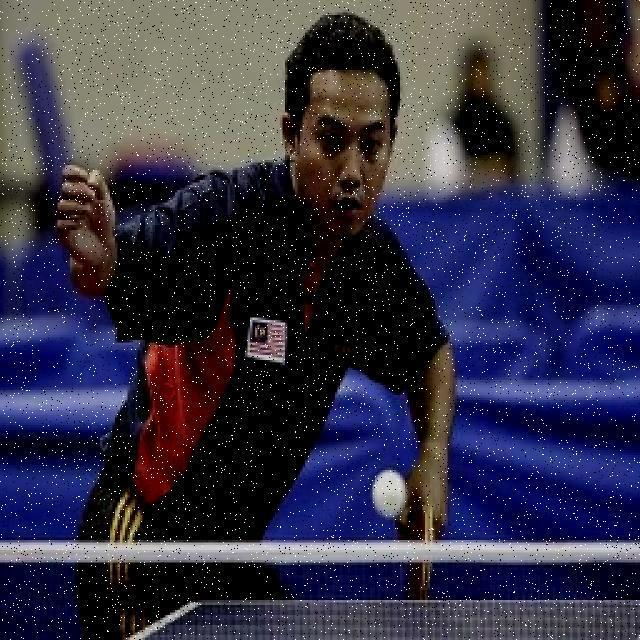ping-pong-ball: (371, 463, 406, 521)
